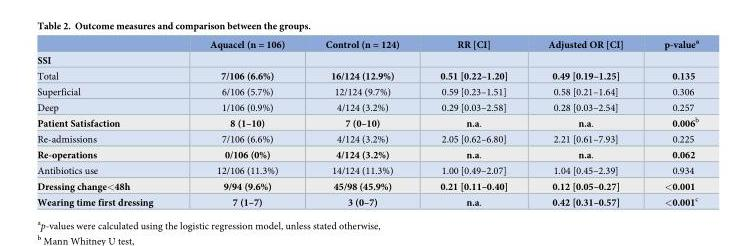table: (36, 37, 698, 207)
table column: (36, 37, 180, 207), (180, 37, 304, 207), (527, 37, 643, 207), (304, 37, 419, 207), (419, 37, 527, 207), (643, 37, 698, 207)
table column header: (36, 37, 698, 52)
table projected row header: (36, 52, 698, 67)
table row: (36, 114, 698, 131), (36, 67, 698, 83), (36, 83, 698, 99), (36, 146, 698, 162), (36, 162, 698, 178), (36, 37, 698, 52), (36, 52, 698, 67), (36, 99, 698, 114), (36, 131, 698, 146), (36, 178, 698, 193), (36, 193, 698, 207)
